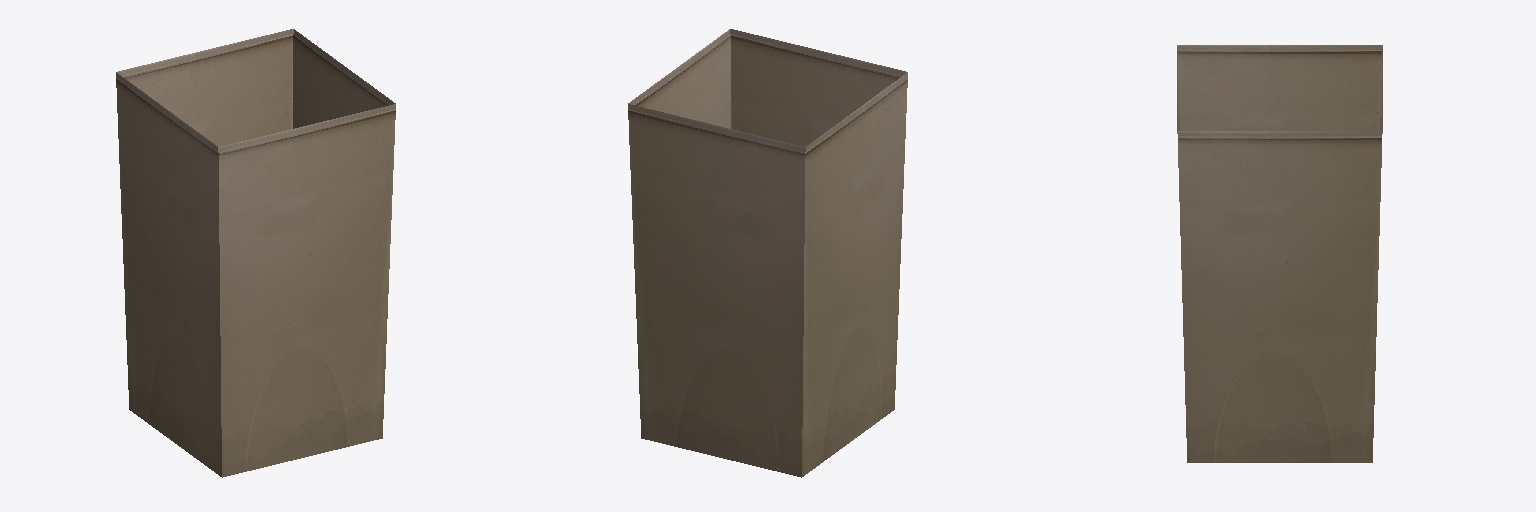
The picture shows the model from 3 angles: view 1: azimuth 30°, elevation 25°; view 2: azimuth 150°, elevation 25°; view 3: azimuth 270°, elevation 25°; orthographic projection.
Parts seen in each view (by area): view 1: trashCan_1_v1; view 2: trashCan_1_v1; view 3: trashCan_1_v1.
Boxes of the visible parts, box(x1,y1,x2,y2) form: trashCan_1_v1: box(116, 29, 395, 477); trashCan_1_v1: box(628, 29, 907, 477); trashCan_1_v1: box(1177, 45, 1382, 462).
Size of the model in its own units: 0.6636 by 1.2 by 0.6636.
Materials: 1 (1 with a texture image).